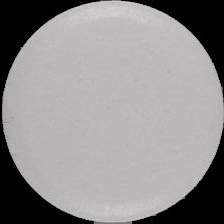50436-6400: (0, 0, 224, 224)
